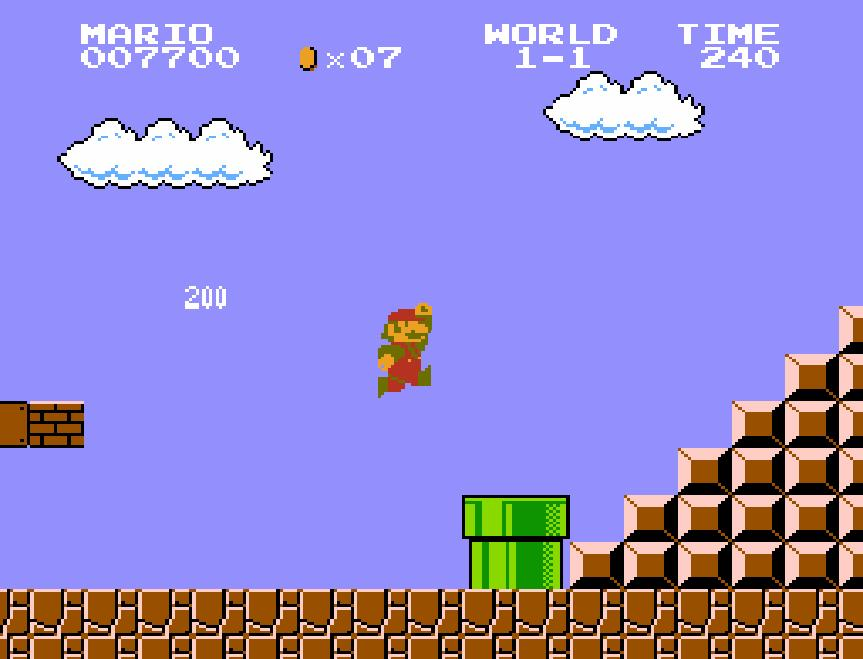big_mario: (376, 301, 434, 399)
